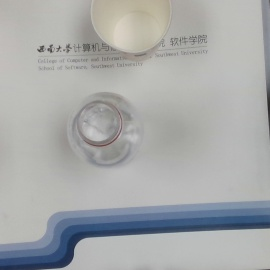bottle: (67, 89, 141, 167)
cup: (88, 1, 172, 57)
